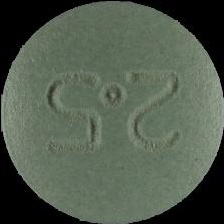63629-5418: (0, 0, 224, 224)
